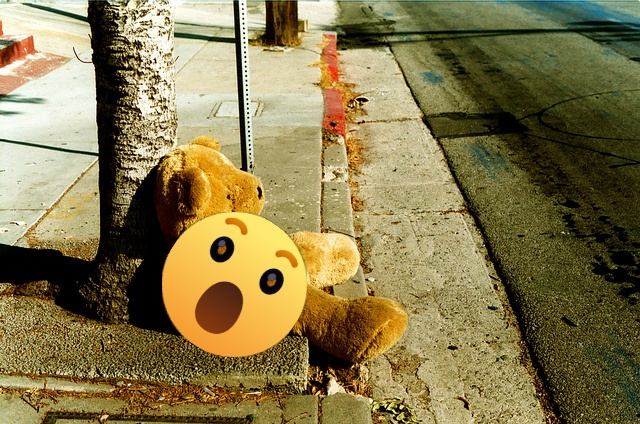wow: (162, 212, 307, 357)
